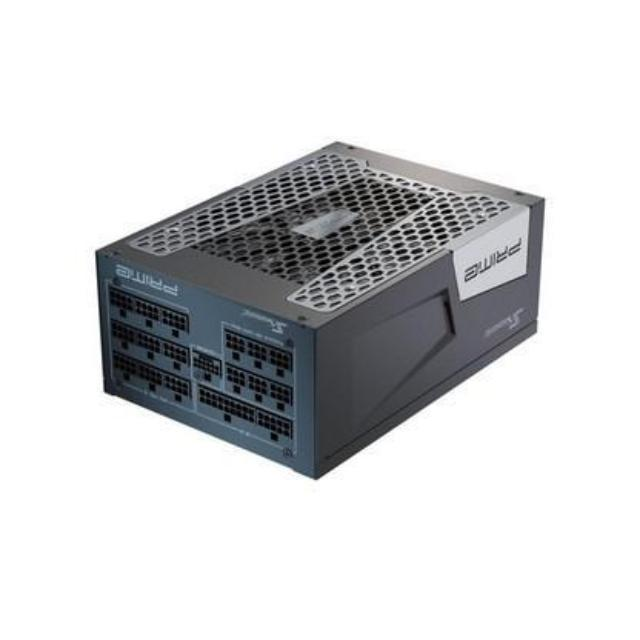PSU: (64, 117, 562, 497)
